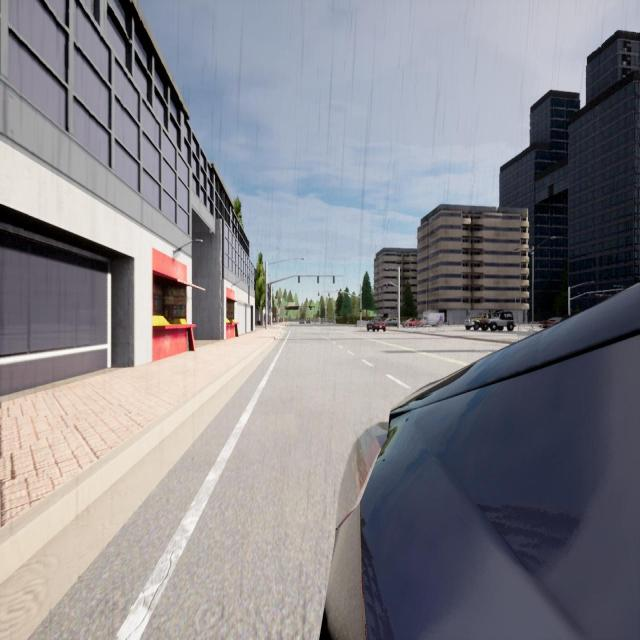Vehicle: (326, 286, 640, 640), (466, 311, 513, 331), (419, 313, 444, 326), (367, 318, 385, 332), (544, 317, 562, 328), (384, 317, 398, 326), (403, 319, 418, 327), (300, 319, 304, 324), (307, 319, 310, 324)
traffic_light: (332, 276, 334, 283), (298, 276, 300, 283), (317, 277, 319, 283), (396, 303, 398, 308), (328, 293, 330, 297), (376, 288, 378, 292), (380, 286, 382, 290), (386, 284, 388, 288), (318, 293, 320, 296), (360, 307, 361, 312), (340, 288, 341, 293)
